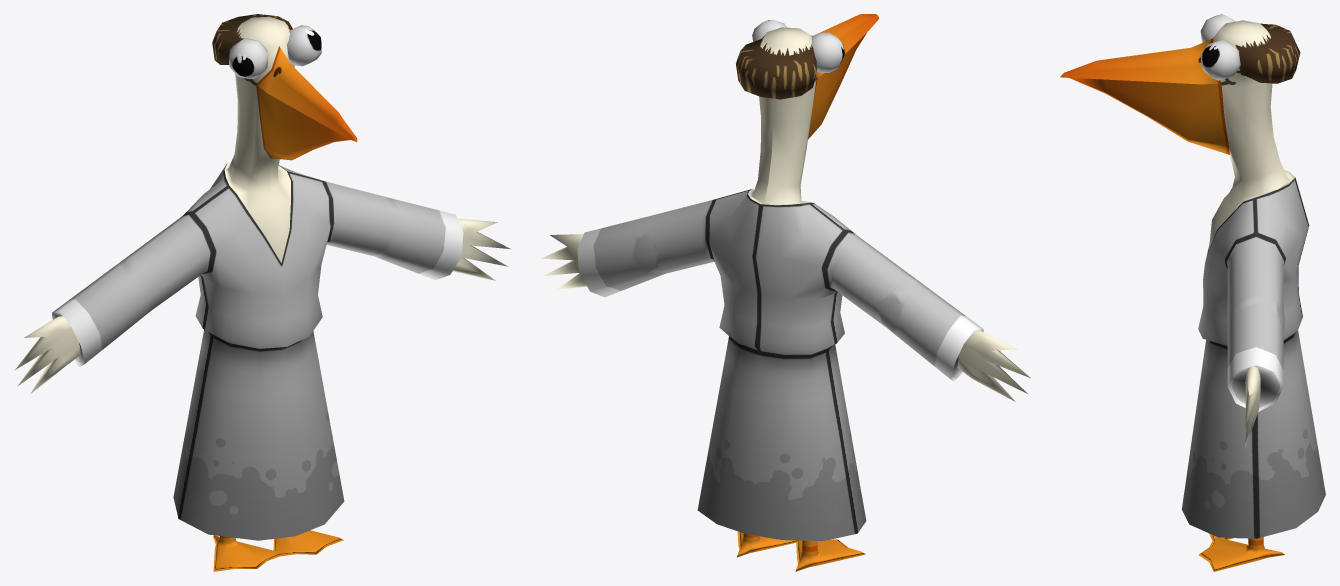
File: SM_PeliPriest_00.fbx
The picture shows the model from 3 angles, left to right: view 1: azimuth 30°, elevation 25°; view 2: azimuth 150°, elevation 25°; view 3: azimuth 270°, elevation 25°; orthographic projection.
Visible parts, largest first — view 1: PeliPriest; view 2: PeliPriest; view 3: PeliPriest.
Boxes of the visible parts, <box> form: PeliPriest: <box>15,14,510,571</box>; PeliPriest: <box>541,14,1030,571</box>; PeliPriest: <box>1060,14,1325,571</box>.
Bounding box in the file's own units: 292 × 293 × 137.
